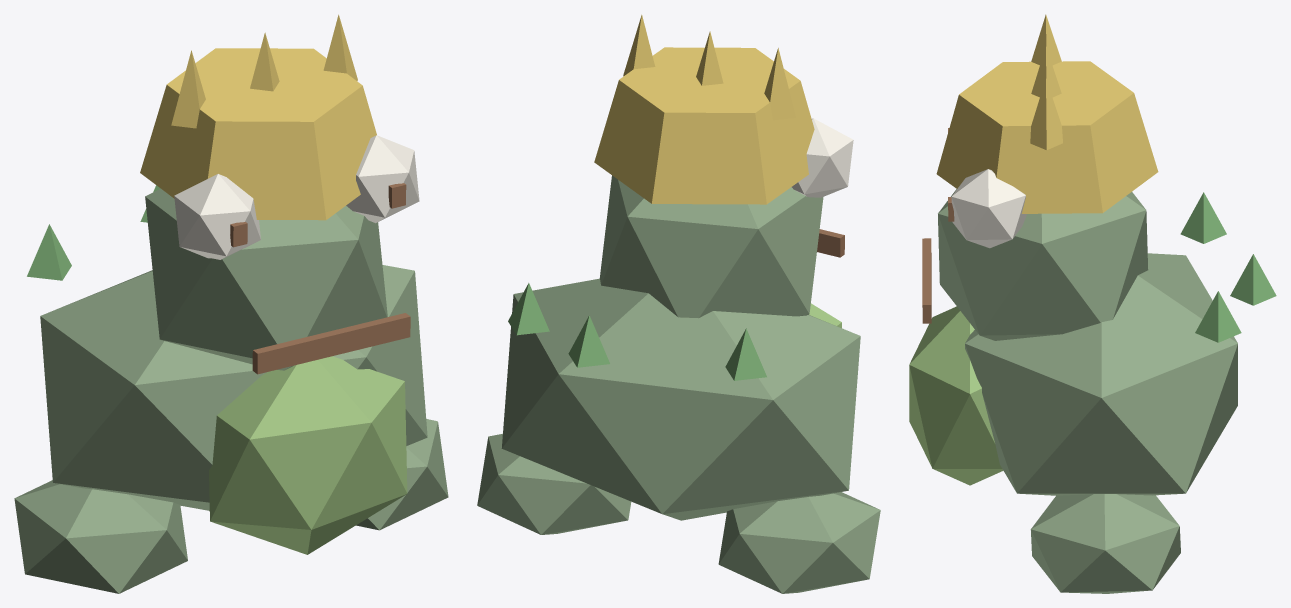
File: npcpose_toad_king_idle_01.glb
The picture shows the model from 3 angles, left to right: view 1: azimuth 30°, elevation 25°; view 2: azimuth 150°, elevation 25°; view 3: azimuth 270°, elevation 25°; orthographic projection. The views are drawn at different scales.
Parts seen in each view (by area): view 1: npcpose; view 2: npcpose; view 3: npcpose.
Part boxes in pixels (x1,y1,x2,y2): npcpose: [14, 14, 448, 593]; npcpose: [477, 14, 880, 593]; npcpose: [909, 14, 1276, 593].
Bounding box in the file's own units: 1.75 × 2.23 × 1.51.
